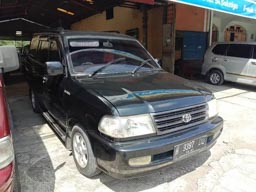plat: (175, 139, 207, 161)
